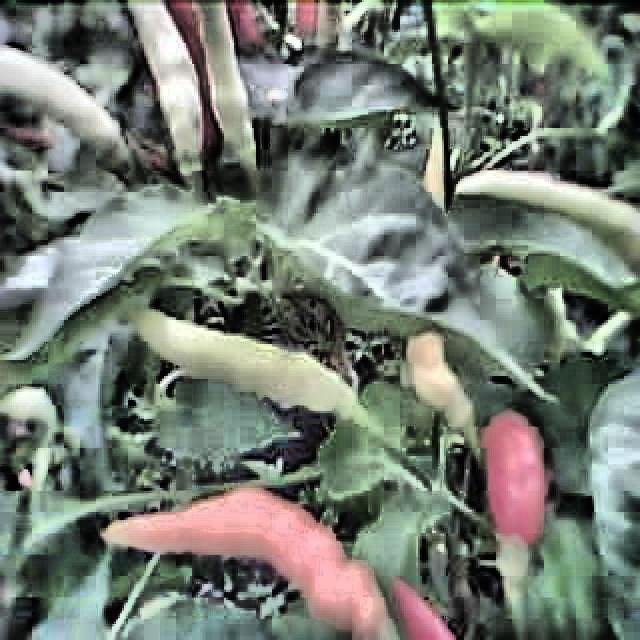Cabai: (105, 481, 387, 640), (495, 406, 550, 571)
